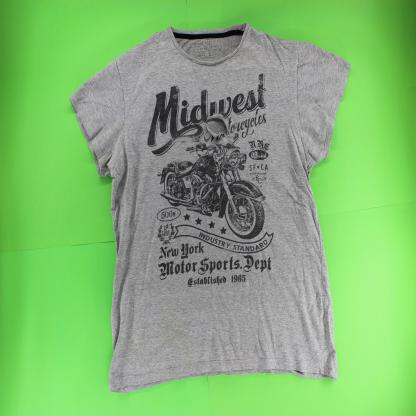hole: (204, 112, 231, 140)
